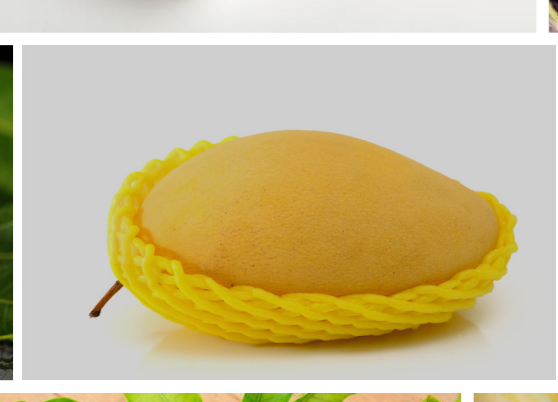mango: (143, 127, 502, 305)
